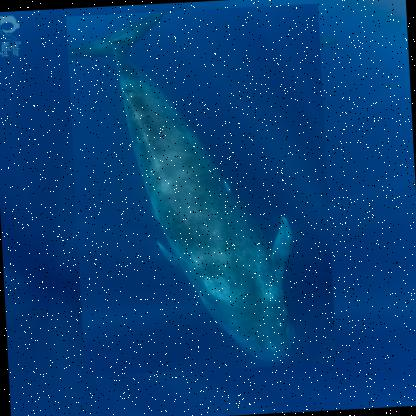blue_whale: (64, 2, 336, 376)
